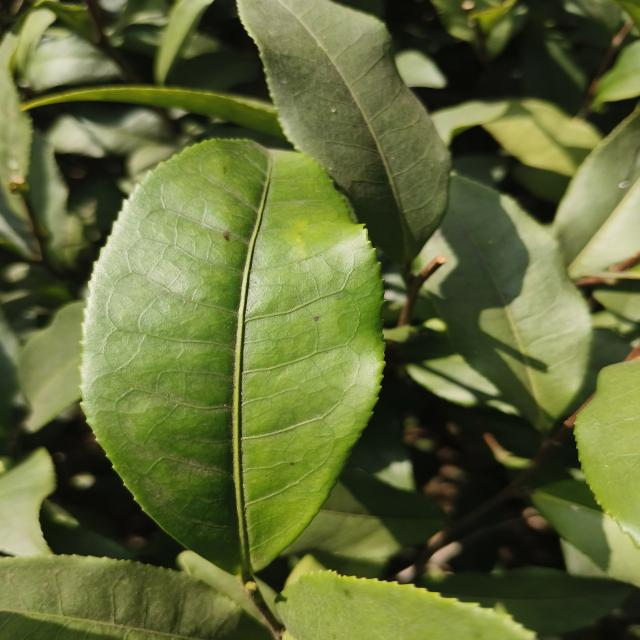Leaf: (81, 140, 384, 577), (238, 0, 450, 266), (417, 175, 591, 432), (0, 555, 269, 640), (276, 571, 534, 640), (552, 110, 640, 279), (22, 84, 285, 139), (283, 468, 445, 557), (421, 567, 631, 635), (575, 356, 640, 544), (531, 480, 640, 588), (484, 99, 602, 176), (18, 300, 86, 433), (47, 103, 171, 158), (0, 447, 55, 556), (21, 33, 121, 91), (154, 0, 213, 85), (431, 101, 507, 145), (594, 40, 640, 106)
